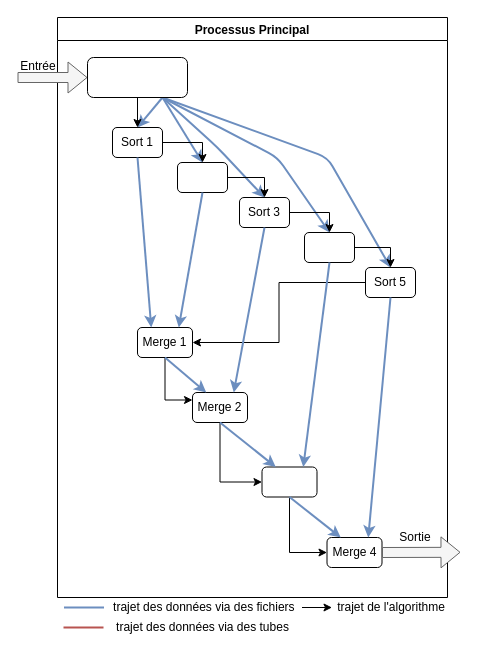
Image size: 477x655. Some labels were removed from this diagram. The box of each missing label's shape, as (x1, y1, x2, y2) in pixels:
Merge 3: (261, 466, 317, 497)
Sort 2: (176, 162, 228, 192)
Sort 4: (304, 232, 354, 262)
Split en 5 sous fichier: (86, 56, 188, 98)
